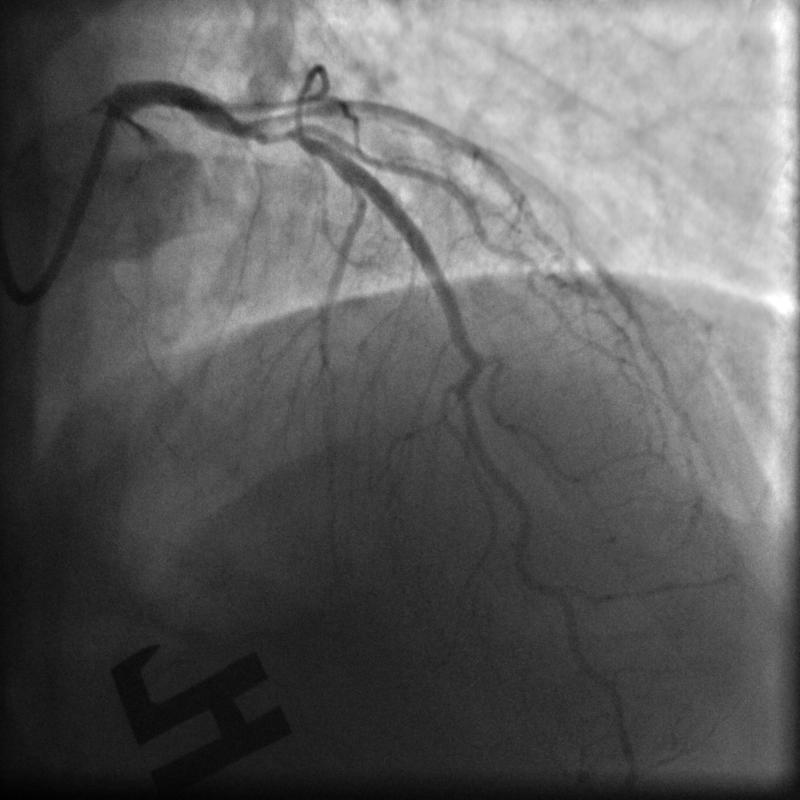Stenosis: (234, 105, 310, 151)
